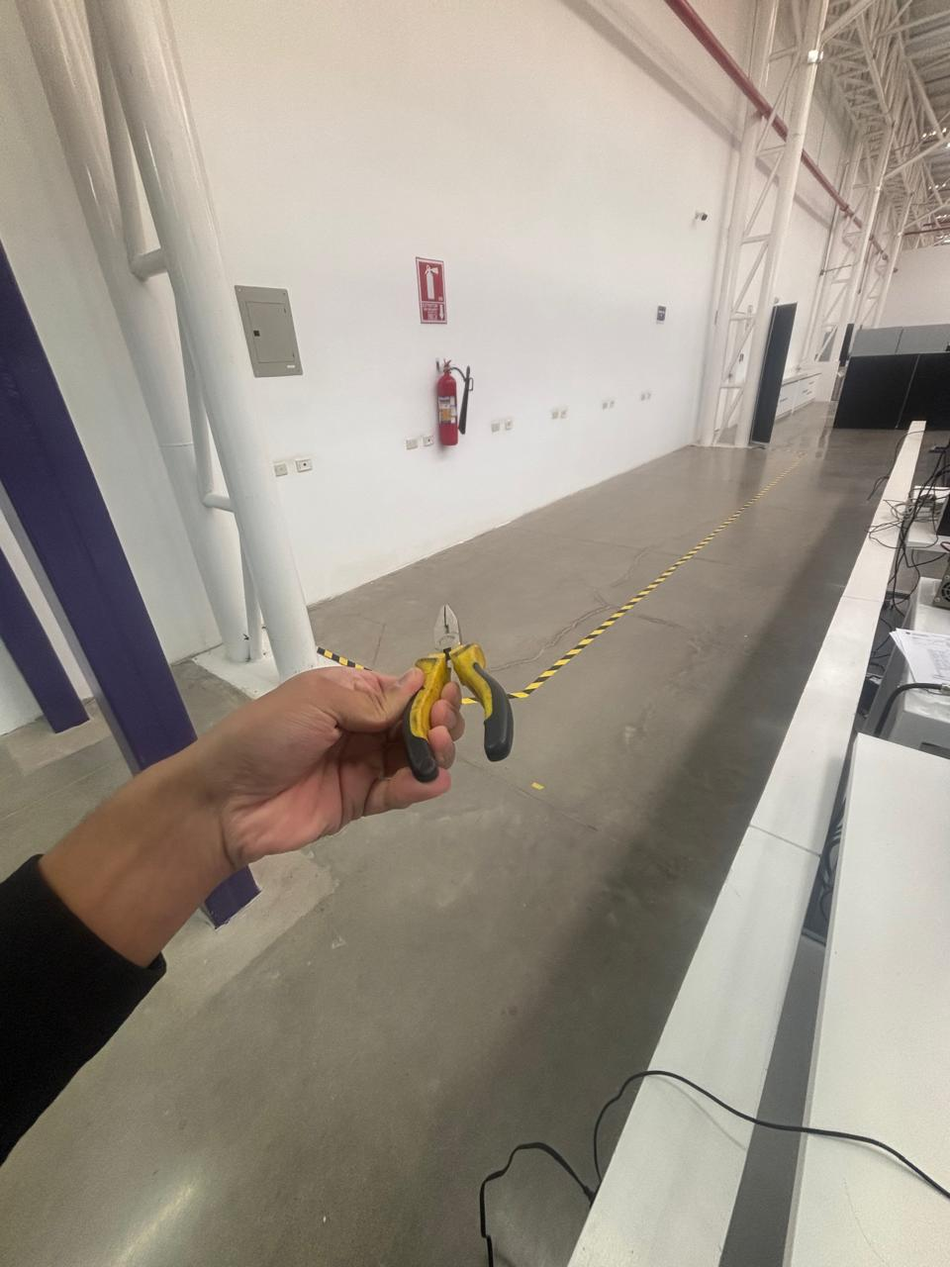plier: (399, 606, 537, 780)
